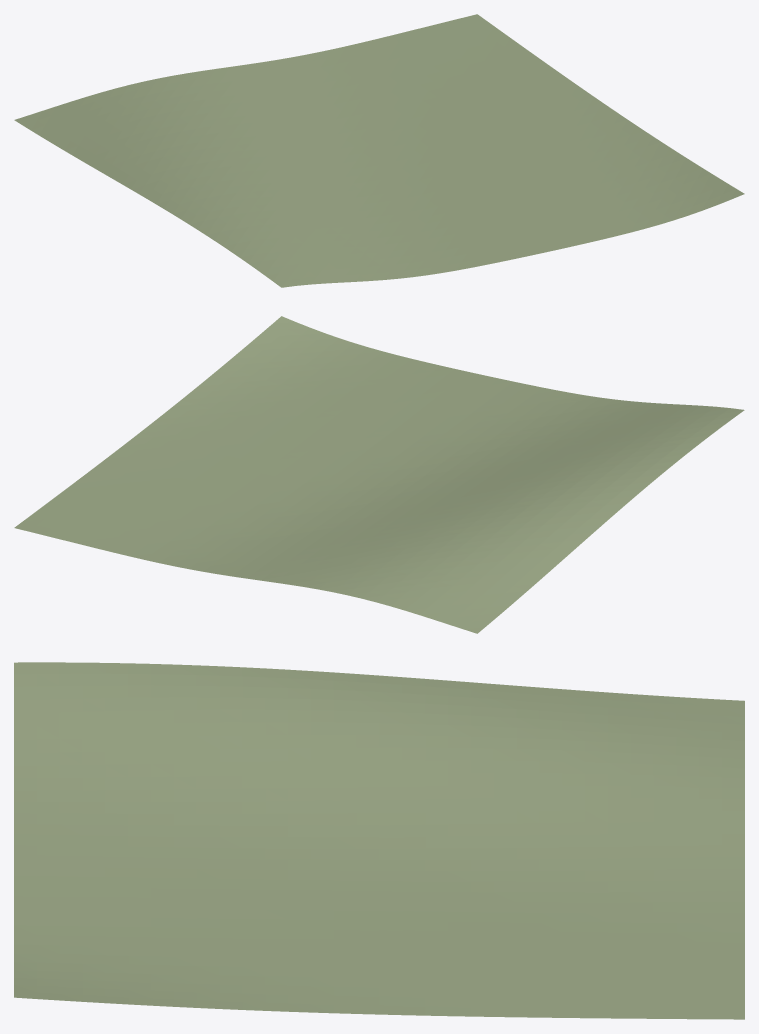
File: desert-7-2.glb
3 views of the same model, one above another, from view 1: azimuth 30°, elevation 25°; view 2: azimuth 150°, elevation 25°; view 3: azimuth 270°, elevation 25° (orthographic). The views are drawn at different scales.
Visible parts, largest first — view 1: desert-7-2; view 2: desert-7-2; view 3: desert-7-2.
Part boxes in pixels (x1,y1,x2,y2): desert-7-2: (14, 14, 744, 287); desert-7-2: (14, 316, 744, 633); desert-7-2: (14, 662, 744, 1019).
Size of the model in its own units: 512 by 37.6 by 512.
